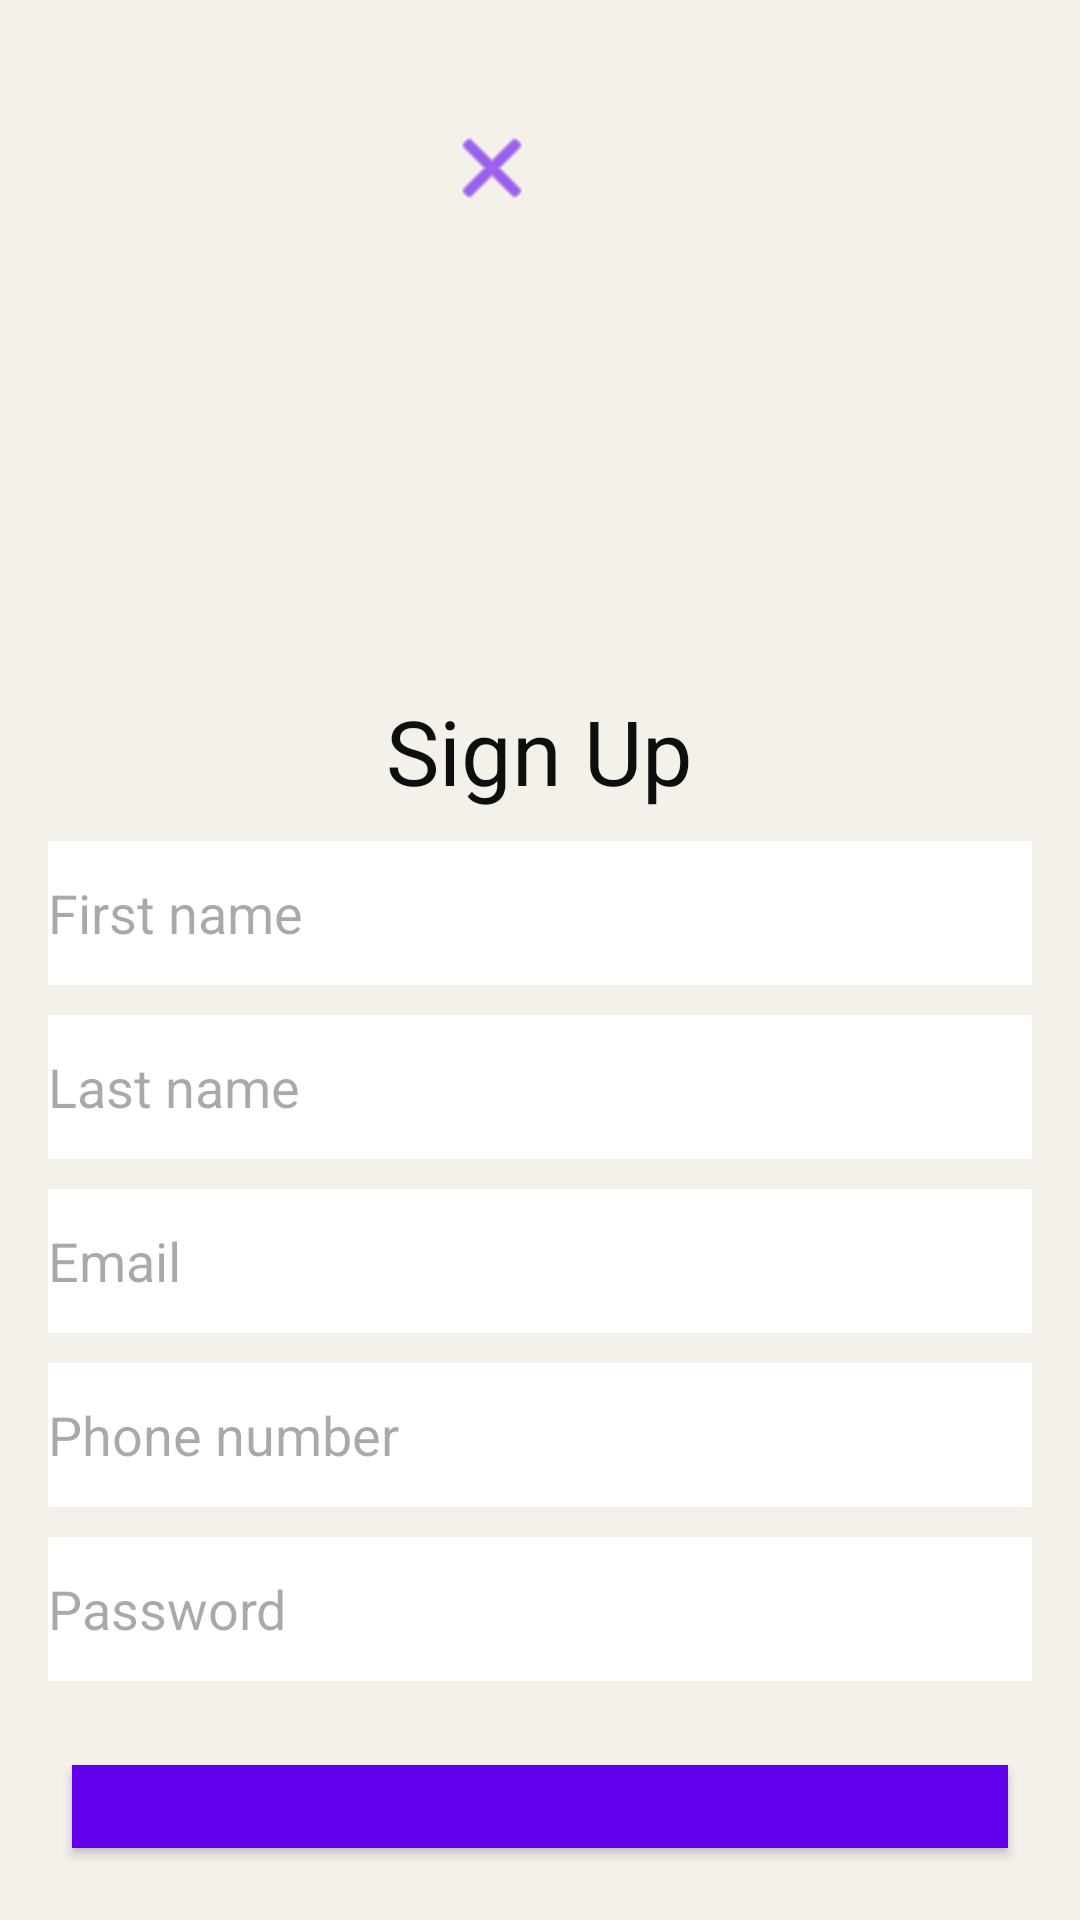

Point at icon controls on the screen. Image size 1080*1920, points as point (x, y).
Close: point (492, 168)
